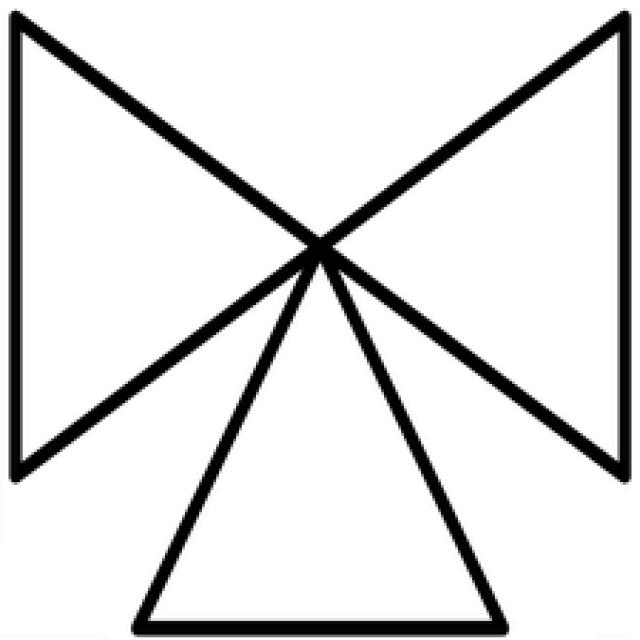3-way Valve: (11, 11, 626, 632)
